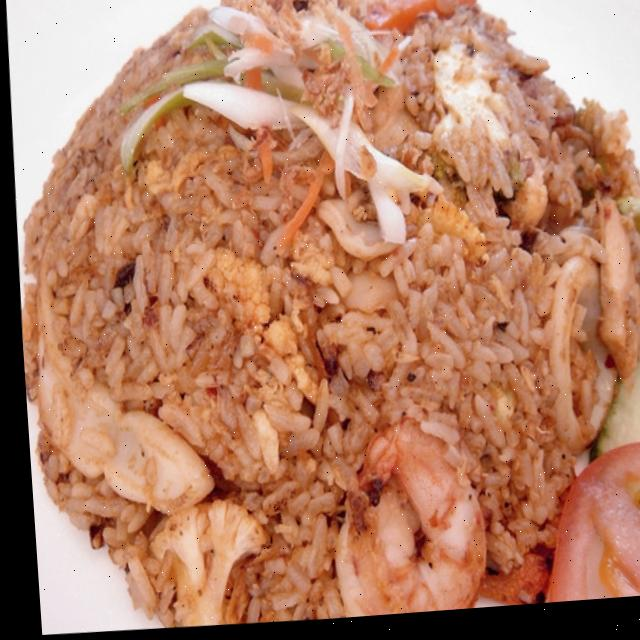米饭主食: (8, 0, 640, 640)
